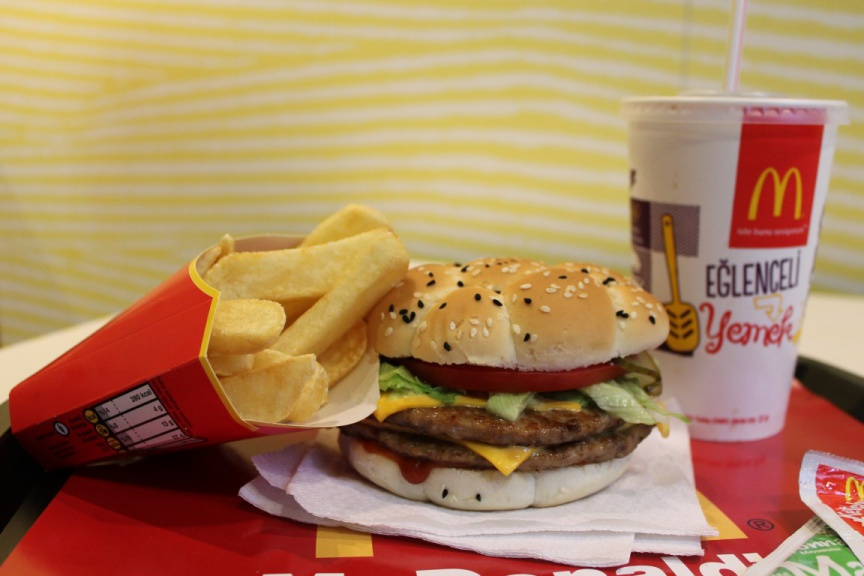mcdonalds: (745, 163, 807, 227)
